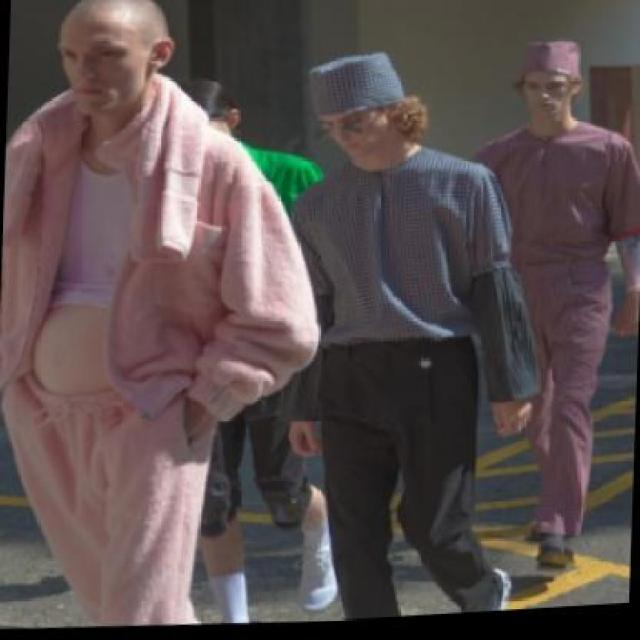hat: (304, 47, 407, 122), (501, 29, 593, 94)
